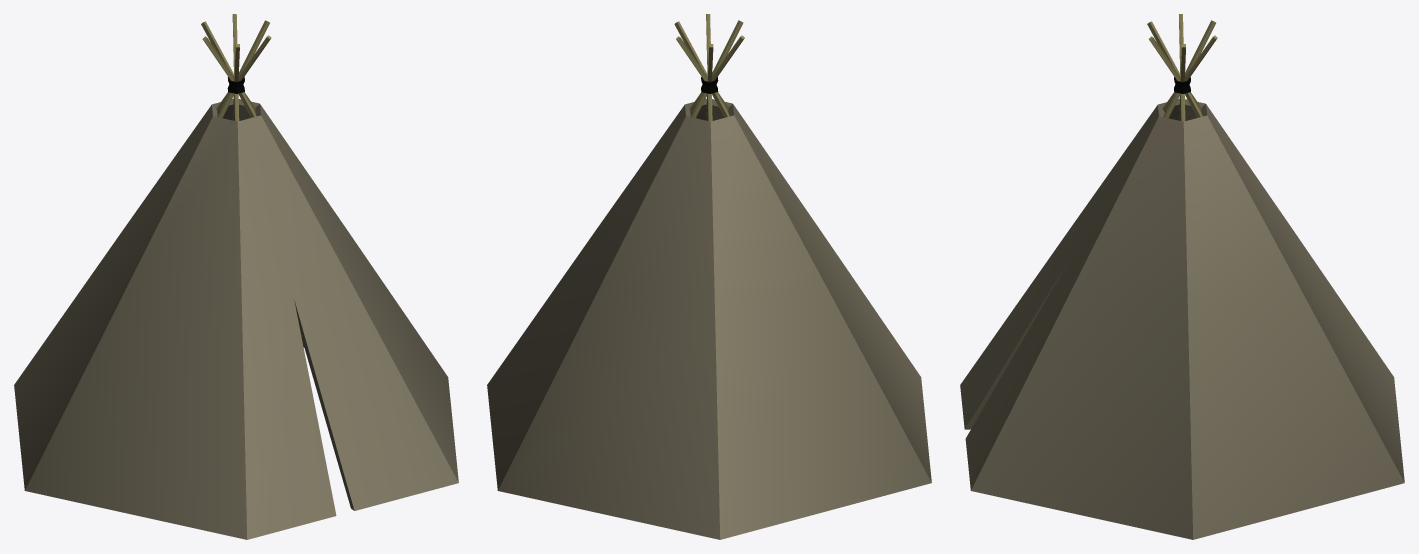
Rendered from Tents_Tipi.glb.
3 views of the same model, side by side, from view 1: azimuth 30°, elevation 25°; view 2: azimuth 150°, elevation 25°; view 3: azimuth 270°, elevation 25° (orthographic).
Visible parts, largest first — view 1: base.145; view 2: base.145; view 3: base.145.
Boxes of the visible parts, x1,y1,x2,y2 form: base.145: (14,14,458,539); base.145: (487,14,931,539); base.145: (960,14,1404,539).
Size of the model in its own units: 5.35 by 4.78 by 4.75.
